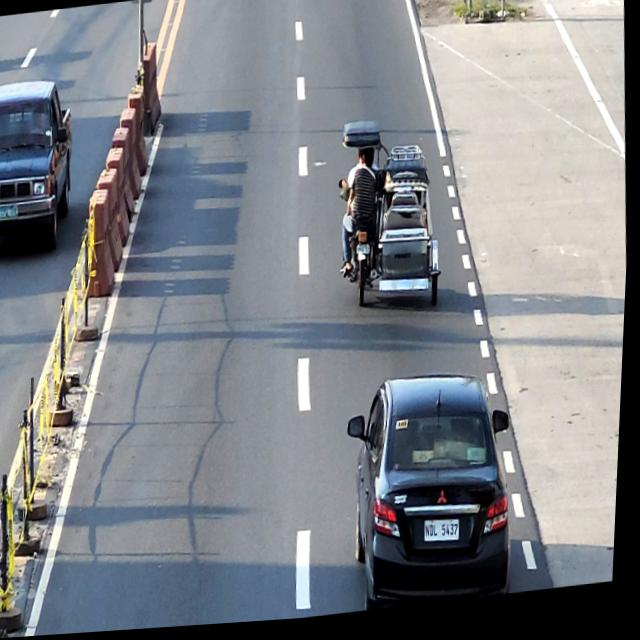Car: (343, 370, 524, 618), (0, 76, 82, 260)
License-Plate: (429, 523, 465, 551), (0, 204, 21, 220), (358, 246, 373, 260)
Tricycle: (333, 114, 452, 324)
